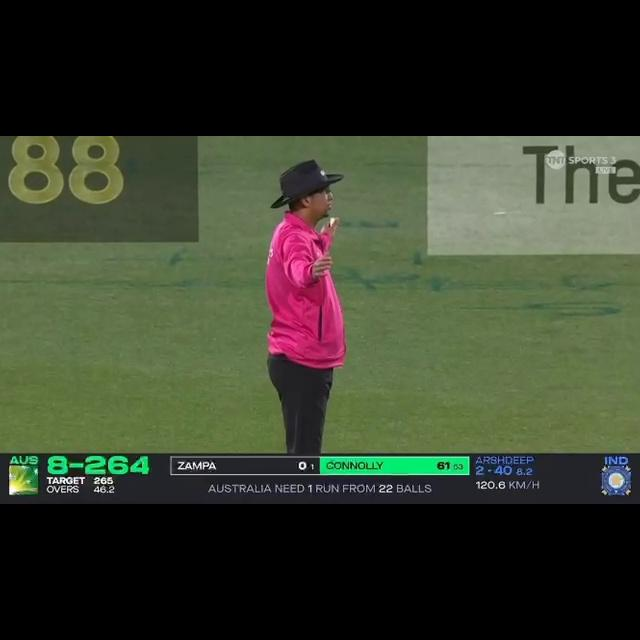umpire: (265, 156, 378, 452)
